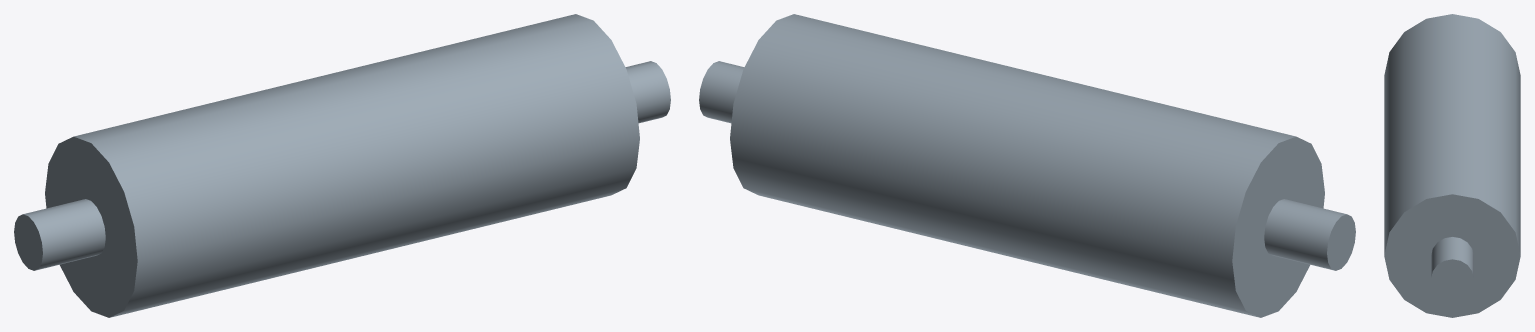
3 renders of one model, left to right at view 1: azimuth 30°, elevation 25°; view 2: azimuth 150°, elevation 25°; view 3: azimuth 270°, elevation 25°, orthographic. The views are drawn at different scales.
Visible parts, largest first — view 1: 聚氨酯托辊; view 2: 聚氨酯托辊; view 3: 聚氨酯托辊.
Part boxes in pixels (left/top/right/bottom): 聚氨酯托辊: left=14, top=14, right=670, bottom=317; 聚氨酯托辊: left=699, top=14, right=1355, bottom=317; 聚氨酯托辊: left=1384, top=14, right=1520, bottom=317.
Size of the model in its own units: 1.25 by 0.32 by 0.32.
